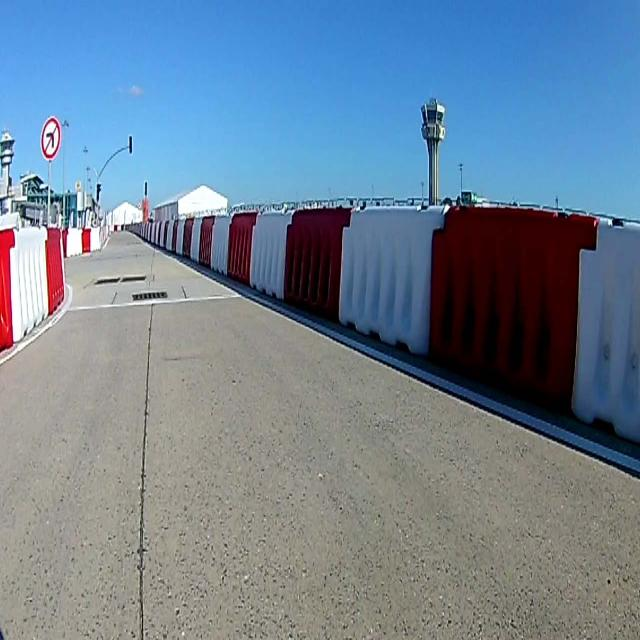soladonulmez: (40, 115, 61, 162)
